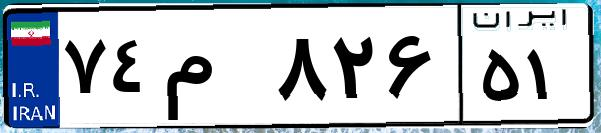1: (525, 38, 570, 115)
2: (330, 28, 385, 110)
4: (110, 28, 158, 98)
5: (475, 38, 525, 113)
6: (385, 28, 445, 110)
7: (57, 26, 110, 100)
8: (270, 28, 330, 110)
م: (158, 20, 270, 120)
